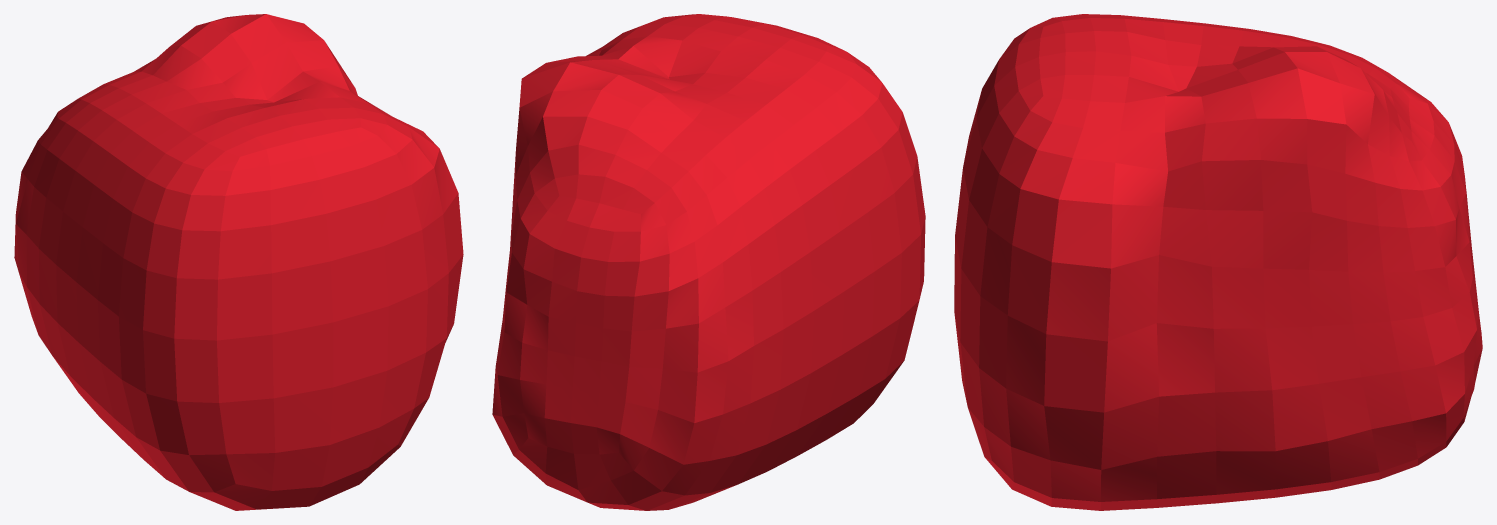
The model's file is right-hand.glb.
The picture shows the model from 3 angles, left to right: view 1: azimuth 30°, elevation 25°; view 2: azimuth 150°, elevation 25°; view 3: azimuth 270°, elevation 25°; orthographic projection. The views are drawn at different scales.
Visible parts, largest first — view 1: Cube.001; view 2: Cube.001; view 3: Cube.001.
Boxes of the visible parts, <box> form: Cube.001: <box>14,14,463,510</box>; Cube.001: <box>492,14,925,510</box>; Cube.001: <box>954,14,1482,510</box>.
Size of the model in its own units: 1.98 by 2.29 by 2.35.
